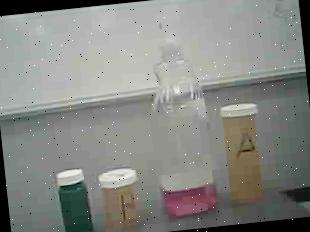Bottle A: (220, 95, 272, 210)
Bottle B: (96, 164, 145, 232)
Bottle C: (47, 158, 102, 232)
hazard: (133, 13, 230, 222)
